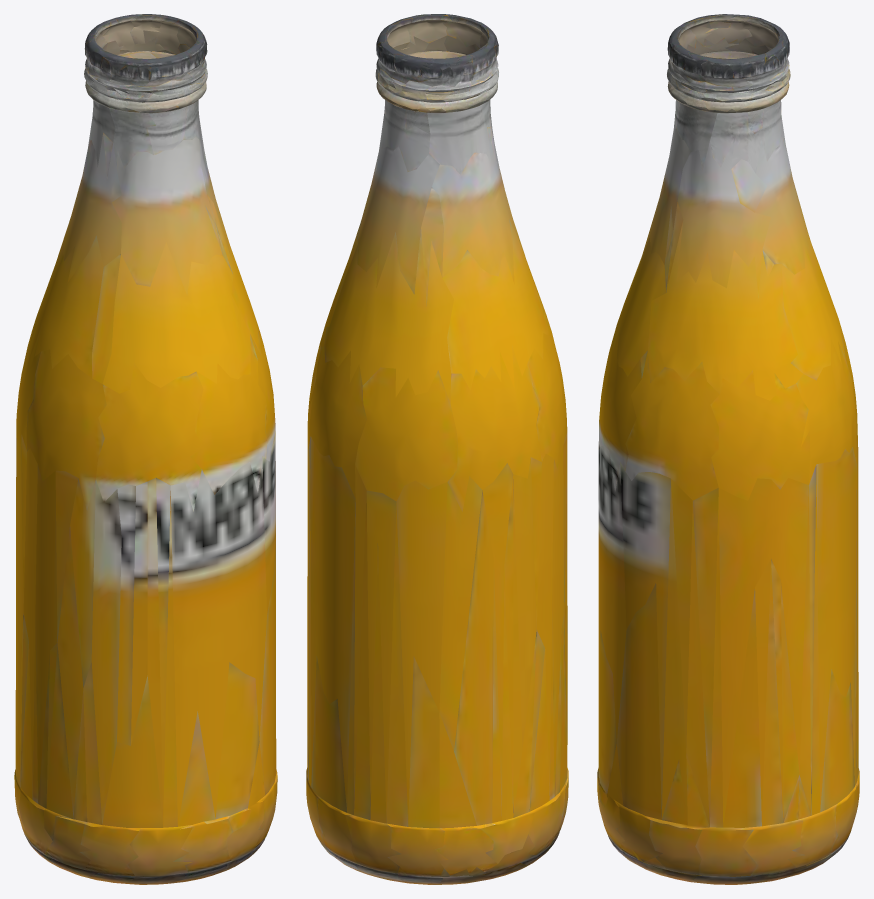
File: bottle-pineapple.glb
3 renders of one model, left to right at view 1: azimuth 30°, elevation 25°; view 2: azimuth 150°, elevation 25°; view 3: azimuth 270°, elevation 25°, orthographic.
Size of the model in its own units: 0.5632 by 1.9 by 0.5625.
Materials: 1 (1 with a texture image).
